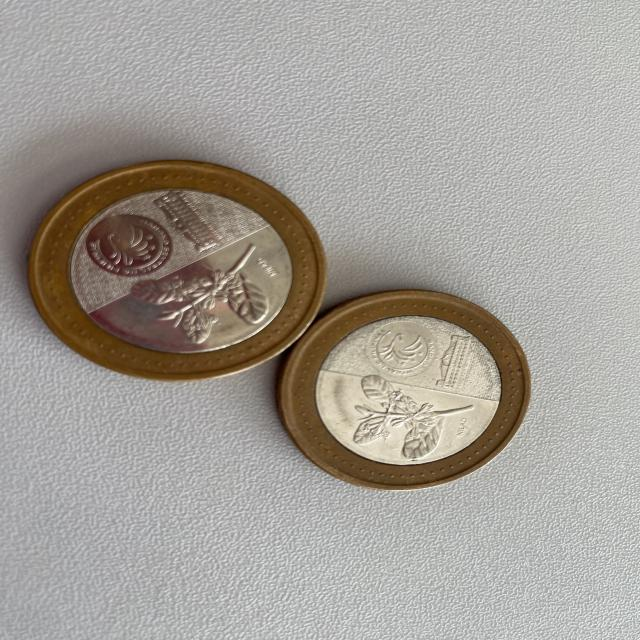20_New_Back: (138, 249, 280, 346), (347, 376, 472, 461)
